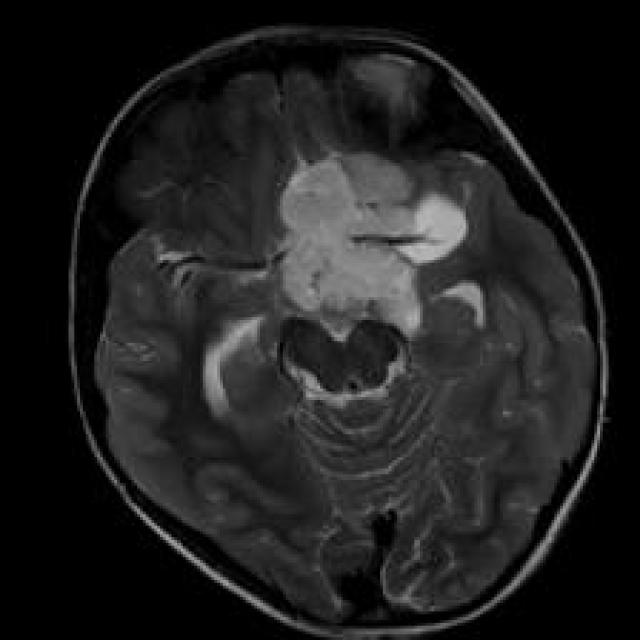glioma_tumor: (260, 137, 501, 341)
